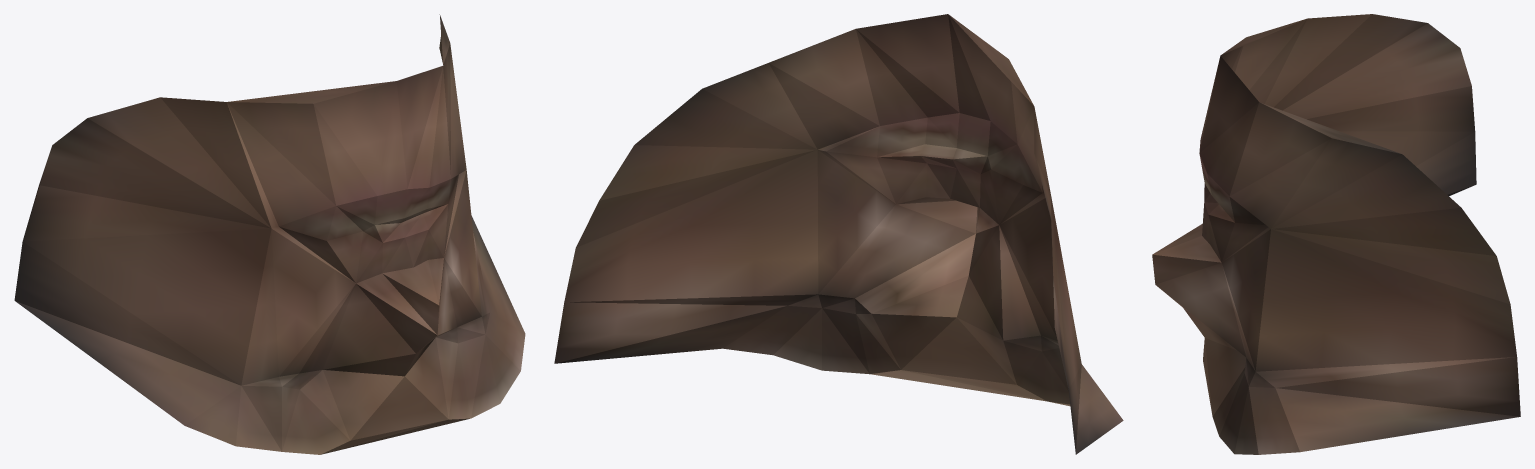
File: fake_66960.obj
The picture shows the model from 3 angles, left to right: view 1: azimuth 30°, elevation 25°; view 2: azimuth 150°, elevation 25°; view 3: azimuth 270°, elevation 25°; orthographic projection. The views are drawn at different scales.
Size of the model in its own units: 126 by 92 by 88.83.
